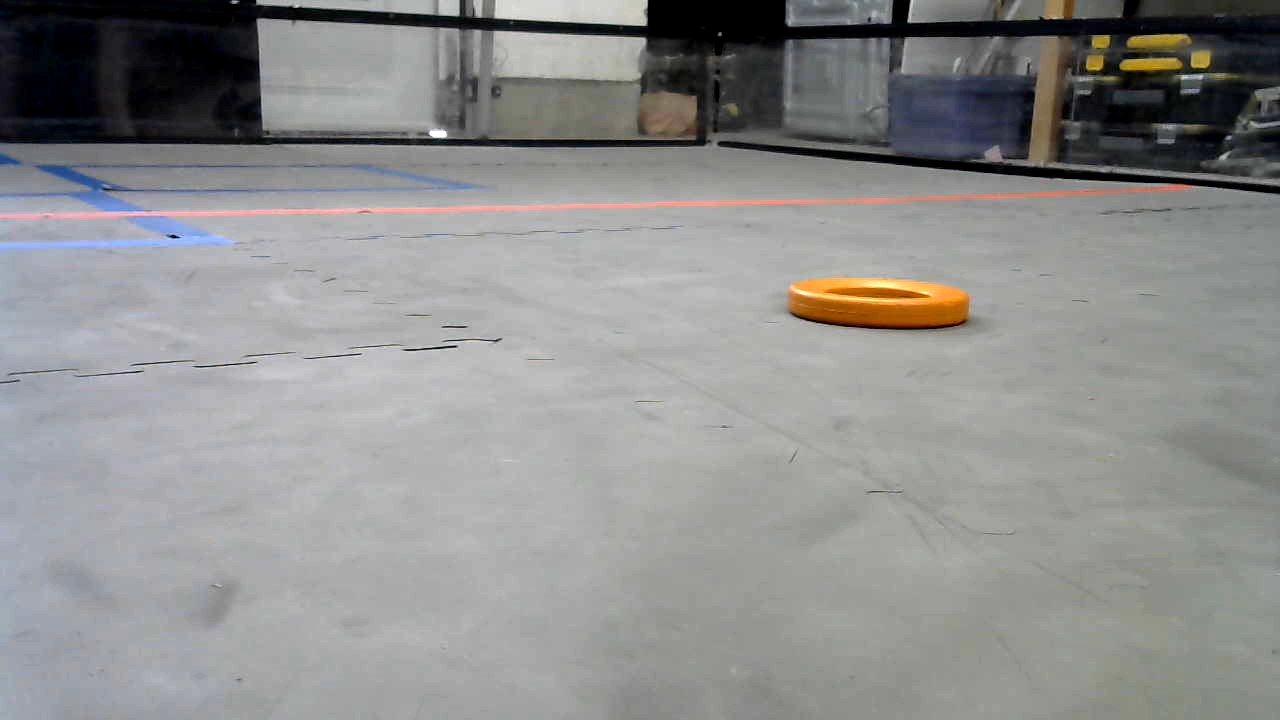OneStack: (787, 270, 969, 330)
